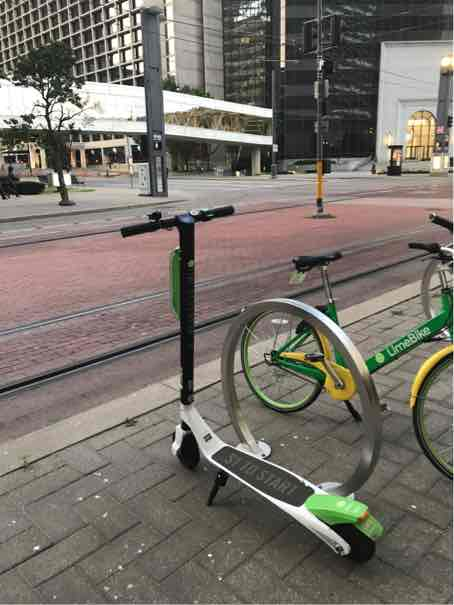scooter: (117, 201, 388, 568)
